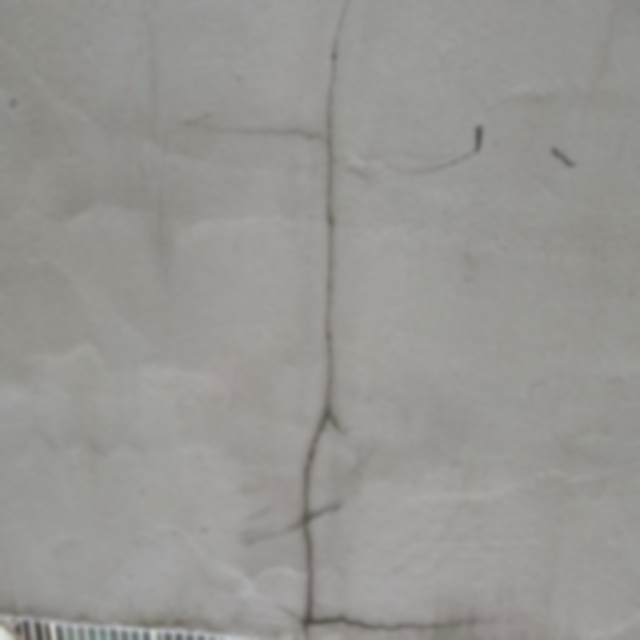SurfaceCrack: (263, 0, 378, 639)
